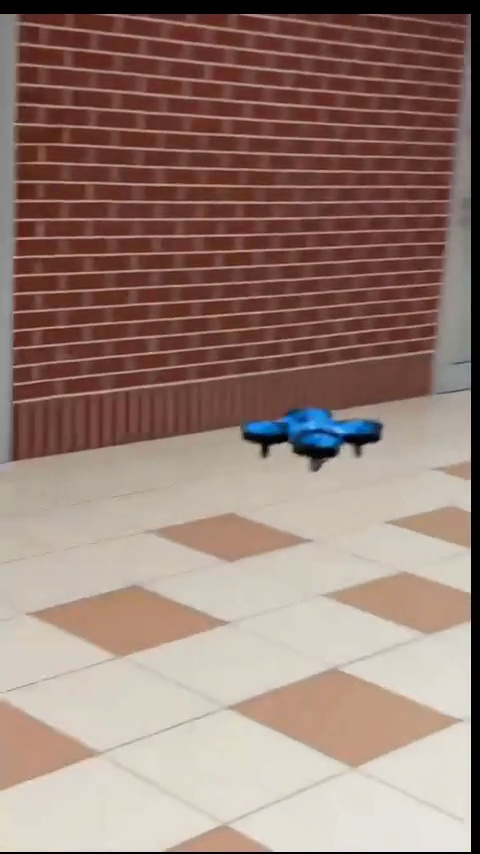drone: (242, 408, 380, 467)
